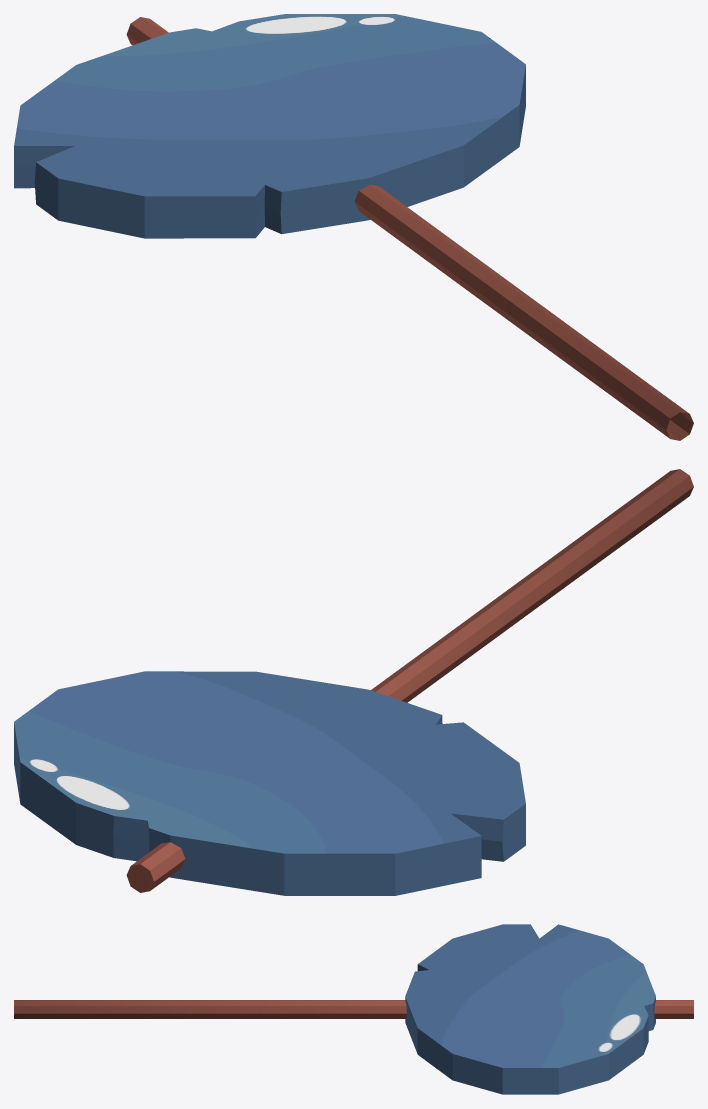
Rendered from placa.fbx.
3 views of the same model, one above another, from view 1: azimuth 30°, elevation 25°; view 2: azimuth 150°, elevation 25°; view 3: azimuth 270°, elevation 25° (orthographic). The views are drawn at different scales.
Parts seen in each view (by area): view 1: Cylinder; view 2: Cylinder; view 3: Cylinder.
Boxes of the visible parts, x1,y1,x2,y2 form: Cylinder: (14, 14, 693, 440); Cylinder: (14, 469, 693, 895); Cylinder: (14, 924, 693, 1094).
Bounding box in the file's own units: 271 × 23.38 × 542.
